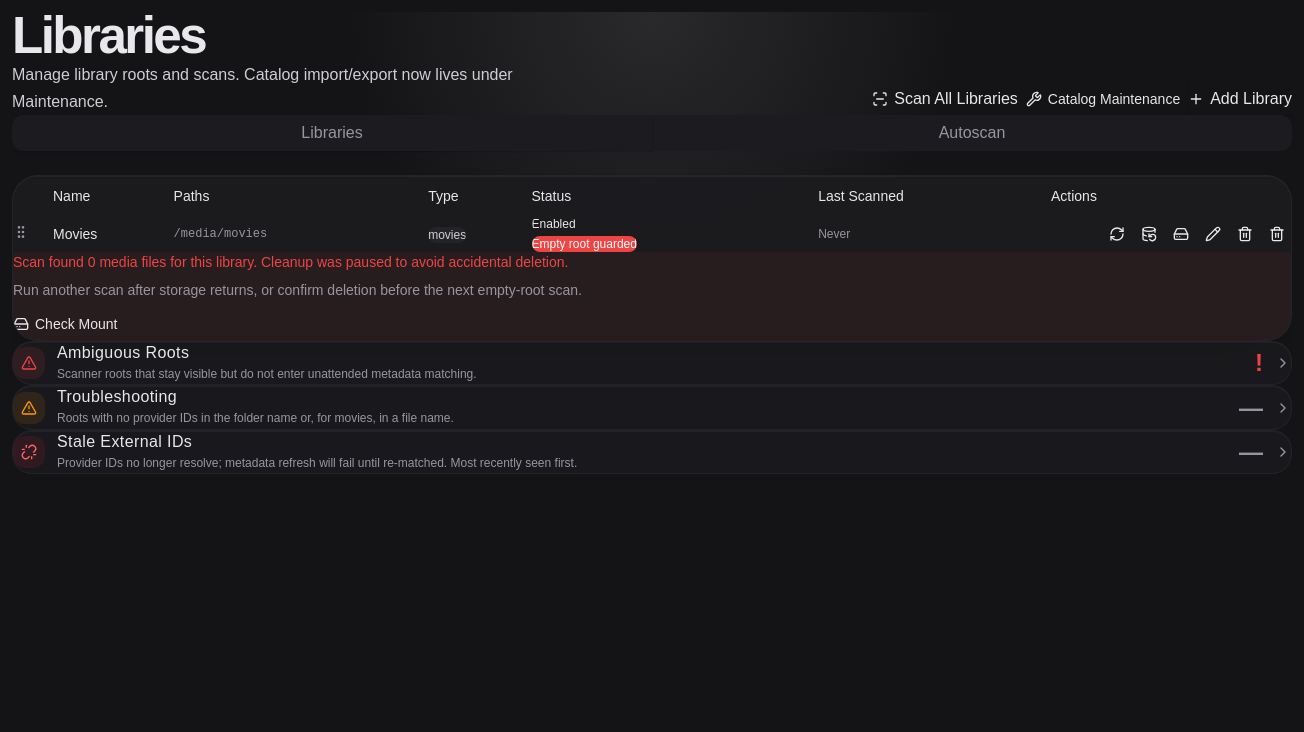
Test case: AdminLibraries › renders an error state when Ambiguous Roots fails to load
Click the button "Ambiguous Roots" at (29, 363), box top-left (13, 342), bottom-right (1291, 384)
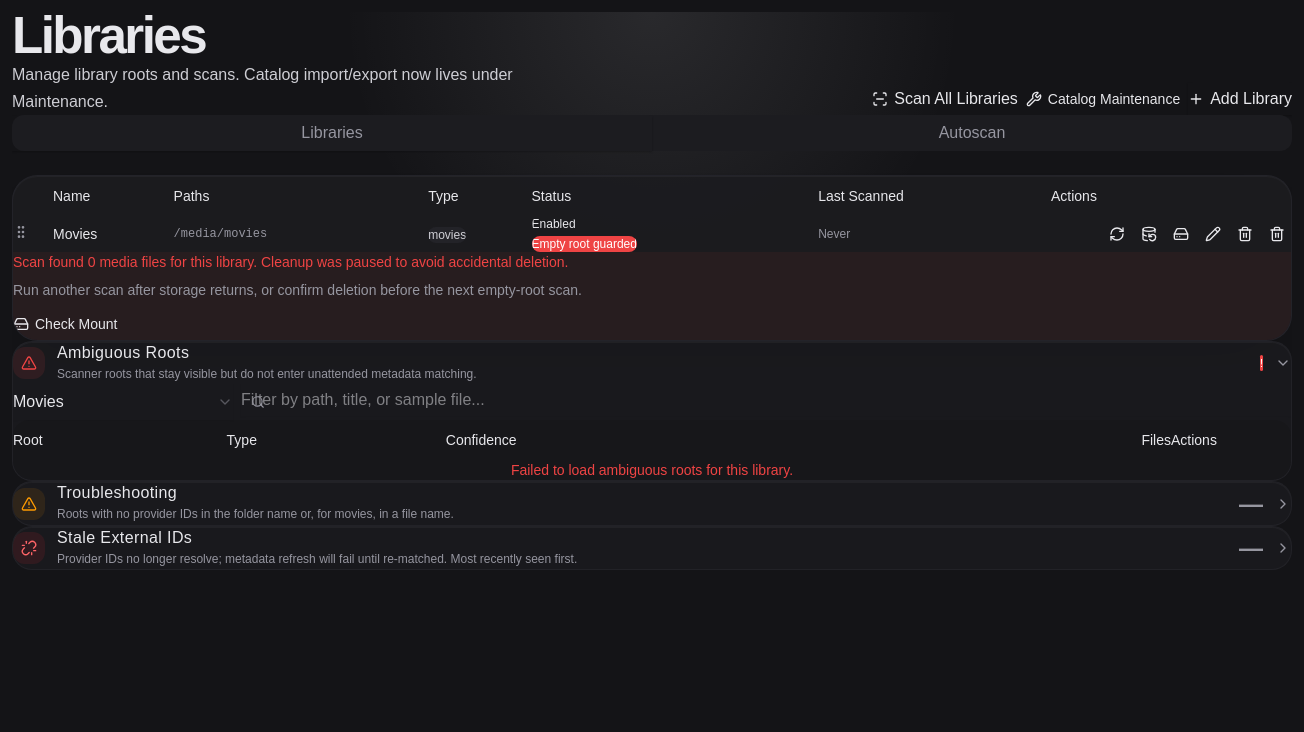
Check: the text "Failed to load ambiguous roots for this library." is shown, box top-left (13, 460), bottom-right (1291, 480)
